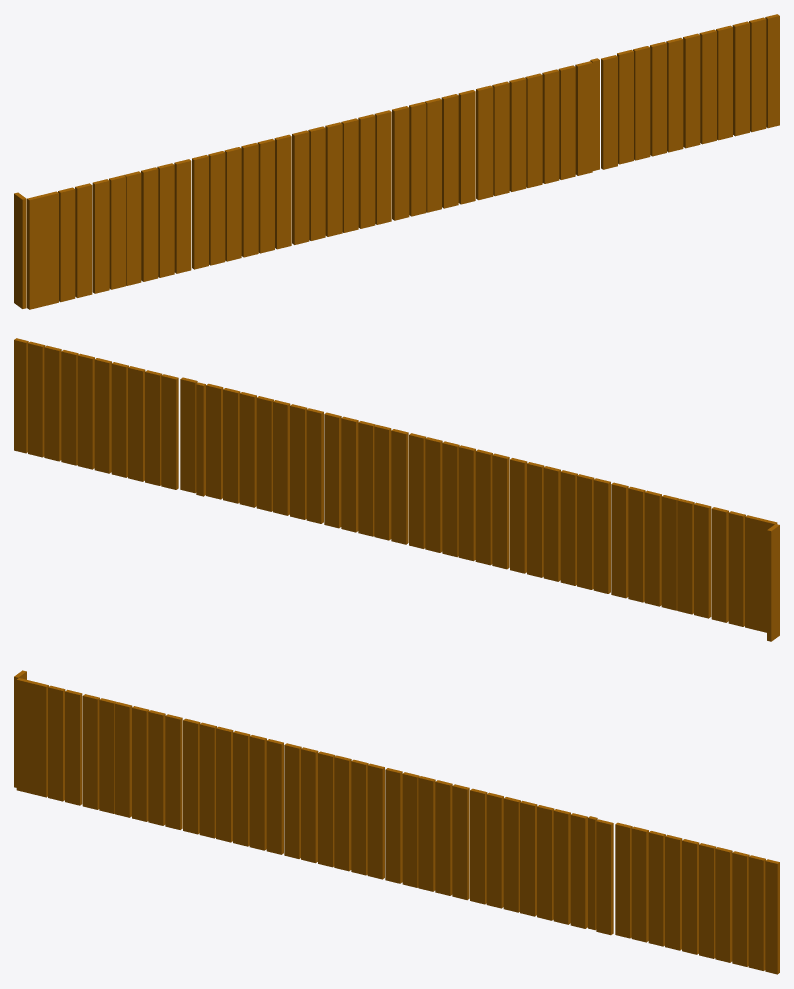
File: frontfence.fbx
3 renders of one model, top to bottom at view 1: azimuth 30°, elevation 25°; view 2: azimuth 150°, elevation 25°; view 3: azimuth 330°, elevation 25°, orthographic.
Visible parts, largest first — view 1: polySurface14; view 2: polySurface14; view 3: polySurface14.
Part boxes in pixels (box(x1,y1,x2,y2)): polySurface14: box(14, 14, 779, 309); polySurface14: box(14, 338, 779, 641); polySurface14: box(14, 670, 779, 974).
Bounding box in the file's own units: 51.39 × 7.12 × 1.25.
